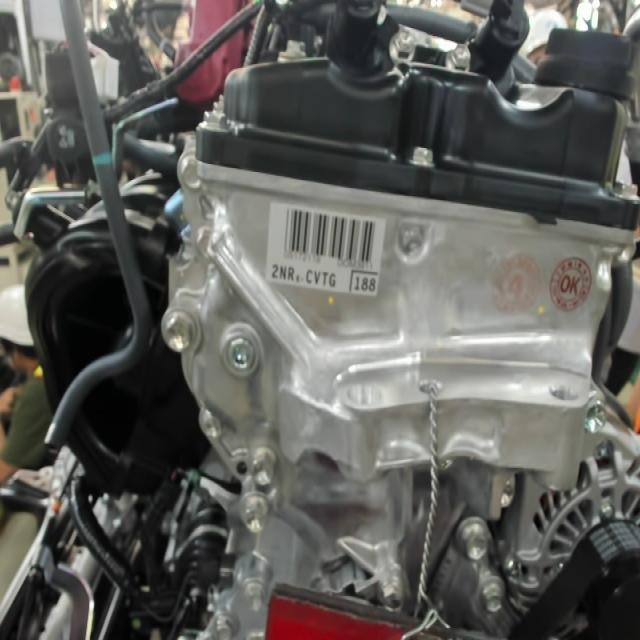Engine Assy-188: (346, 264, 382, 296)
Hose Canister-HJ: (88, 148, 115, 170)
